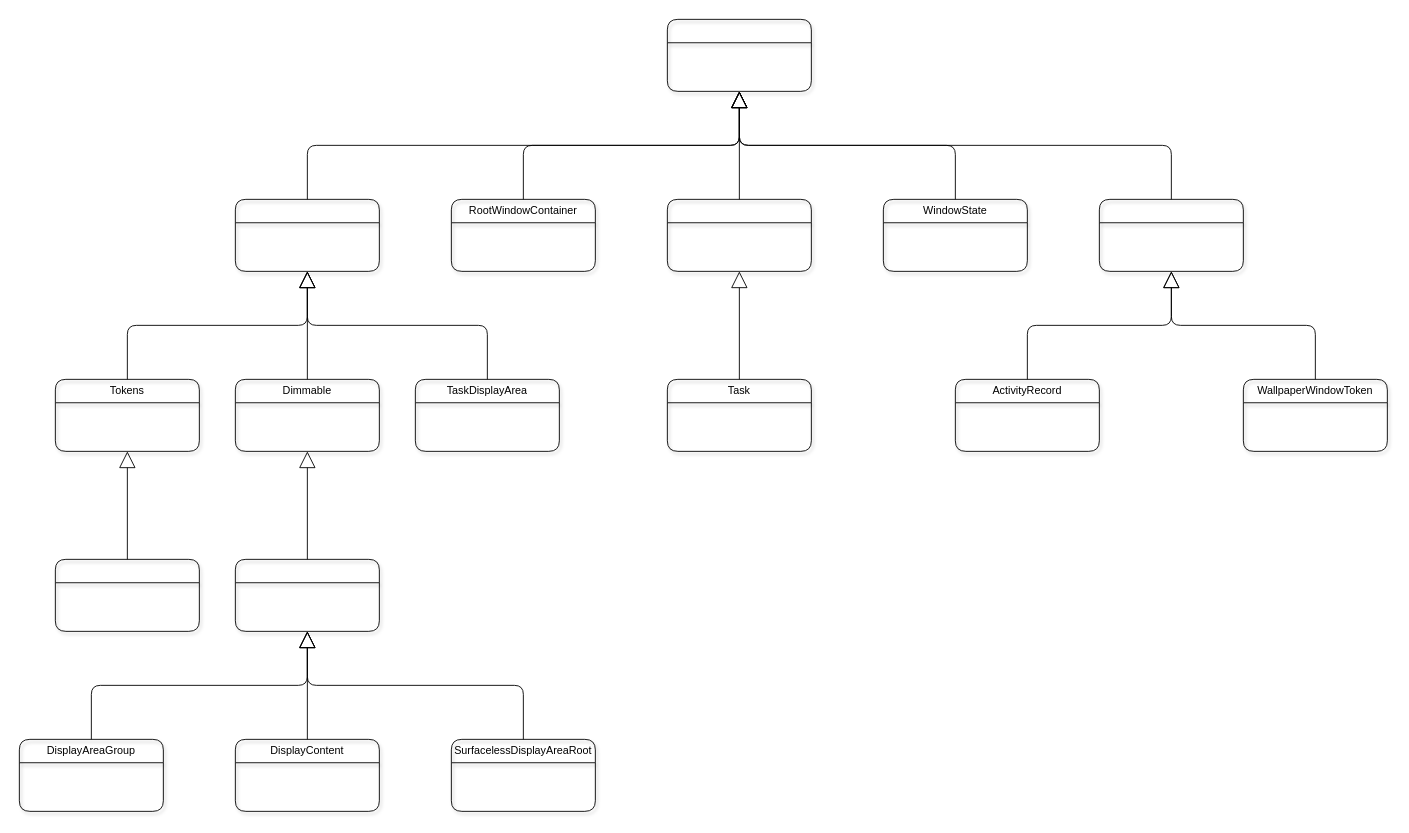
Some shapes in this 1409 by 833 pixel diagram are drawn without their labels. Here are the shapes that lost their labels. From the top down, the centre of each, then its label:
point 740,56: WindowContainer
point 308,236: DisplayArea
point 740,236: TaskFragment
point 1172,236: WindowToken
point 128,596: ImeContainer
point 308,596: RootDisplayArea
